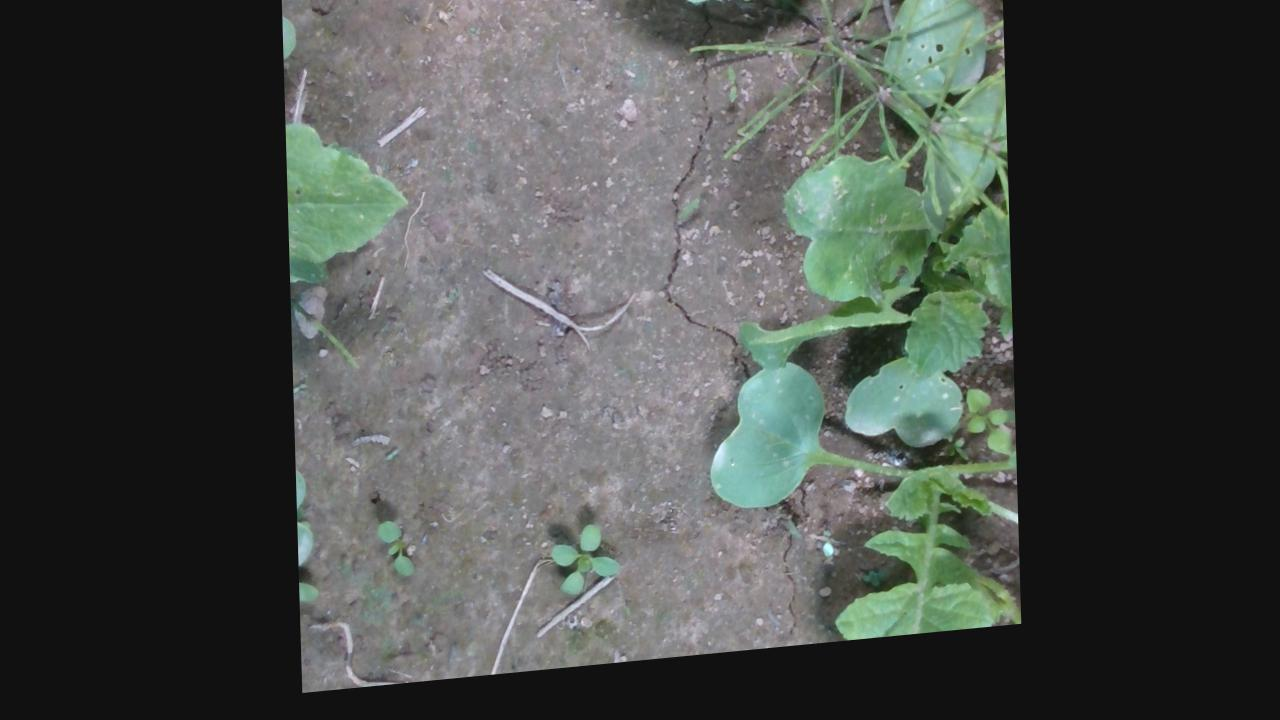weed: (372, 523, 414, 595)
